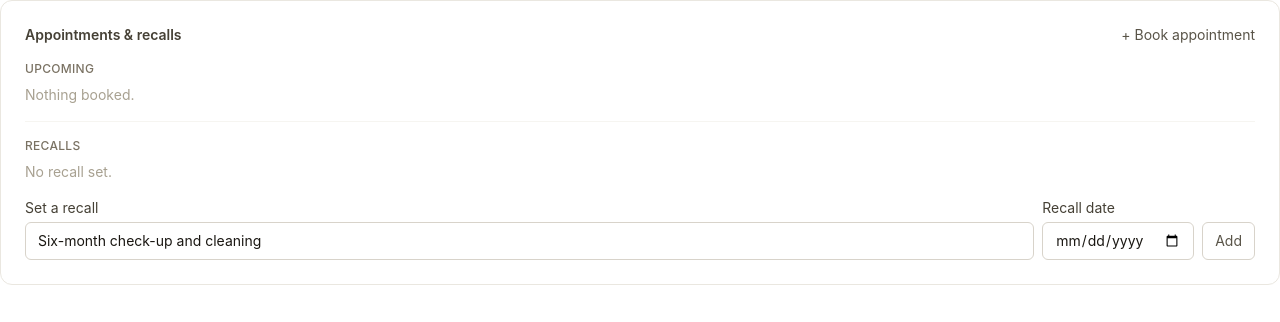
Test: PatientScheduling › asks for a date rather than saving a recall with none
The image size is (1280, 322).
Check: the text "No recall set." is shown, box [25,163,112,180]
Click the button "Add" at (1229, 241), box [1202,222,1255,260]
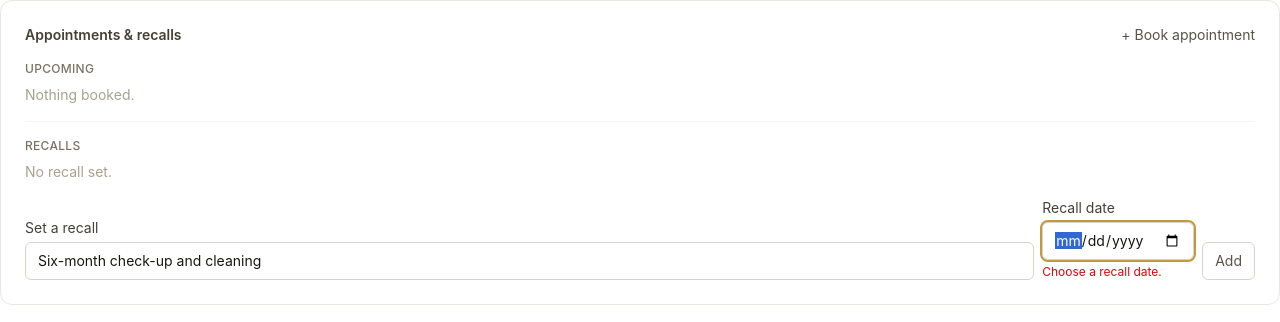
Check: the text "Choose a recall date." is shown, box [1042,264,1162,279]
